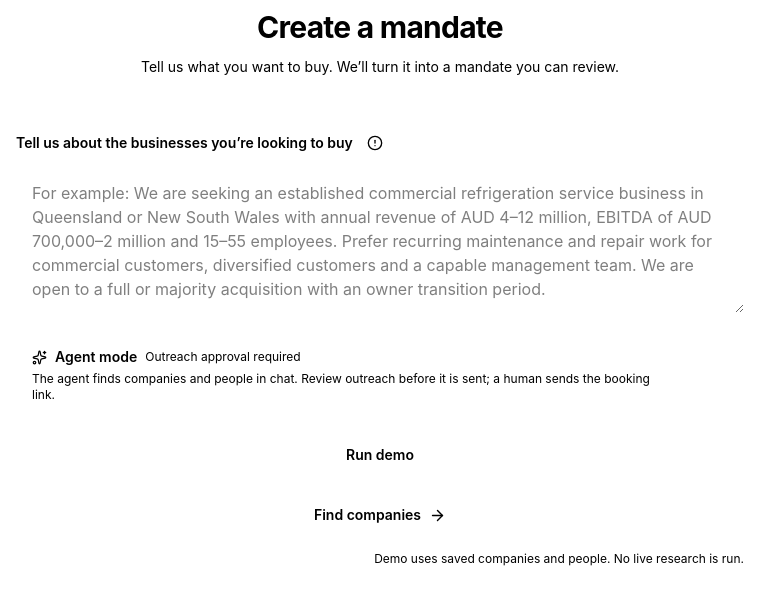
Test case: does not fall back to live research when no saved demo dataset is available
Click the button "Run demo": (380, 455) [16, 431, 744, 479]
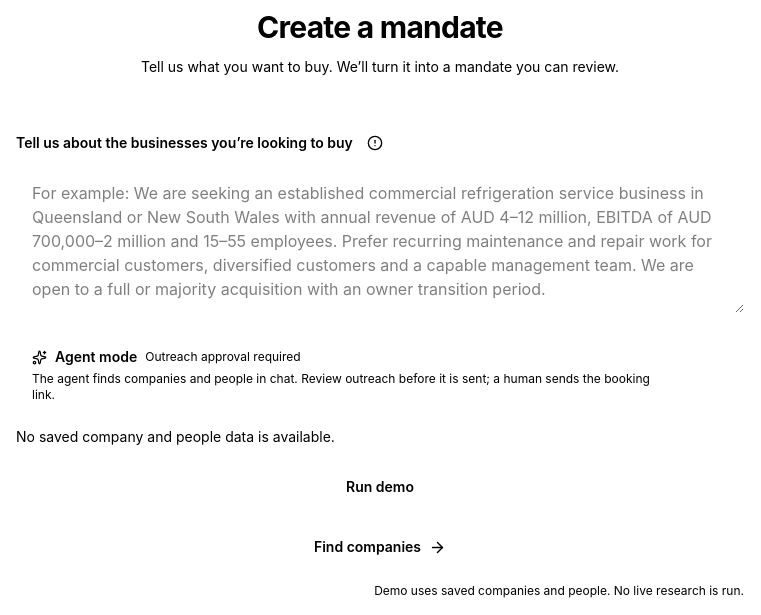
Check: the message "No saved company and people data is available." is shown, box [16, 428, 335, 445]
